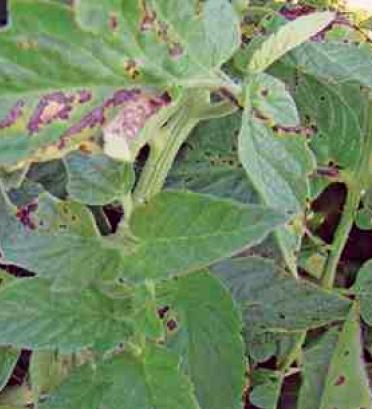Tomato Early blight leaf: (0, 0, 262, 196)
Tomato leaf: (114, 193, 305, 283), (0, 287, 110, 349), (17, 363, 120, 409)
